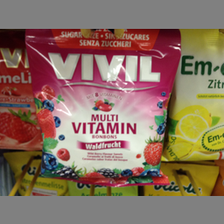candy: (25, 30, 171, 186), (168, 29, 224, 166)
